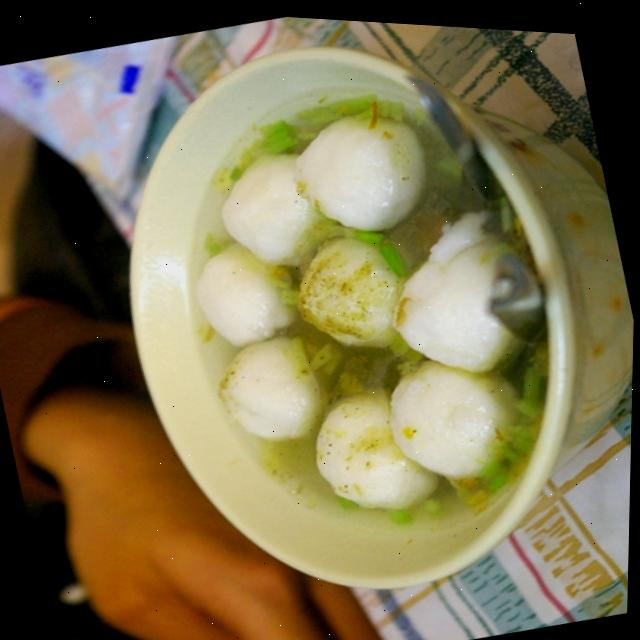熟制海鲜: (139, 49, 571, 574)
